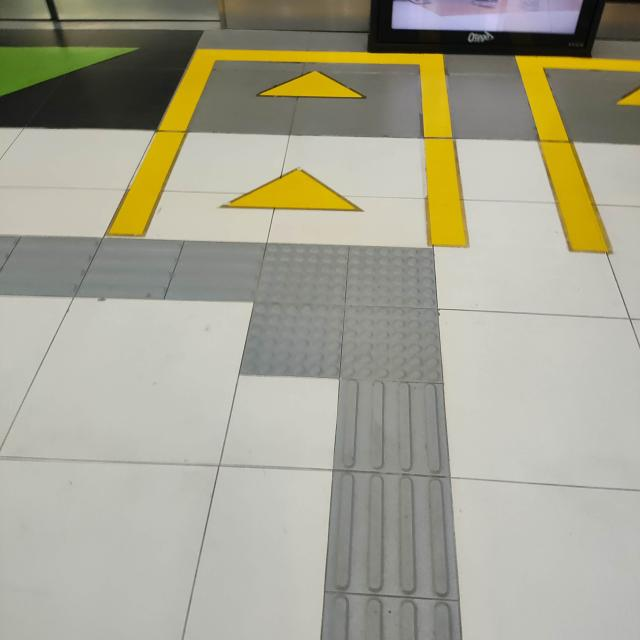kiri: (127, 214, 512, 468)
